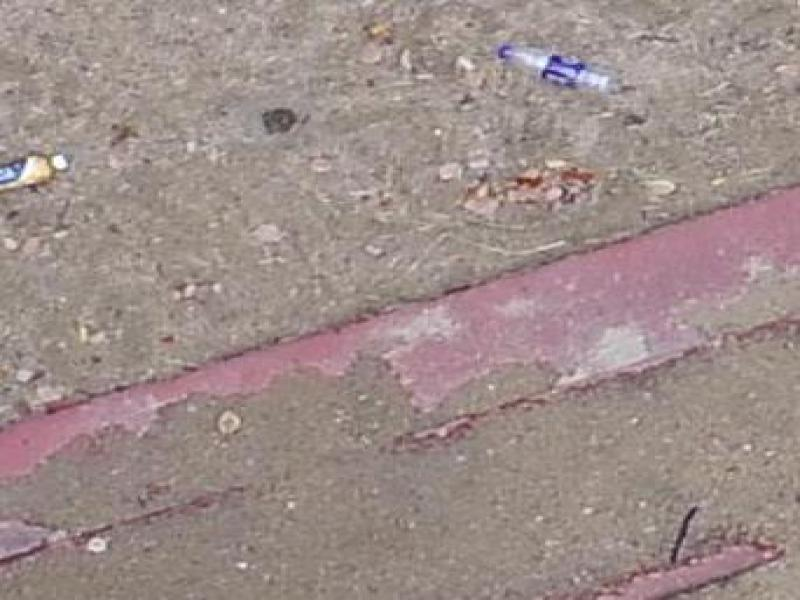bottle: (486, 34, 623, 104), (1, 145, 80, 189)
